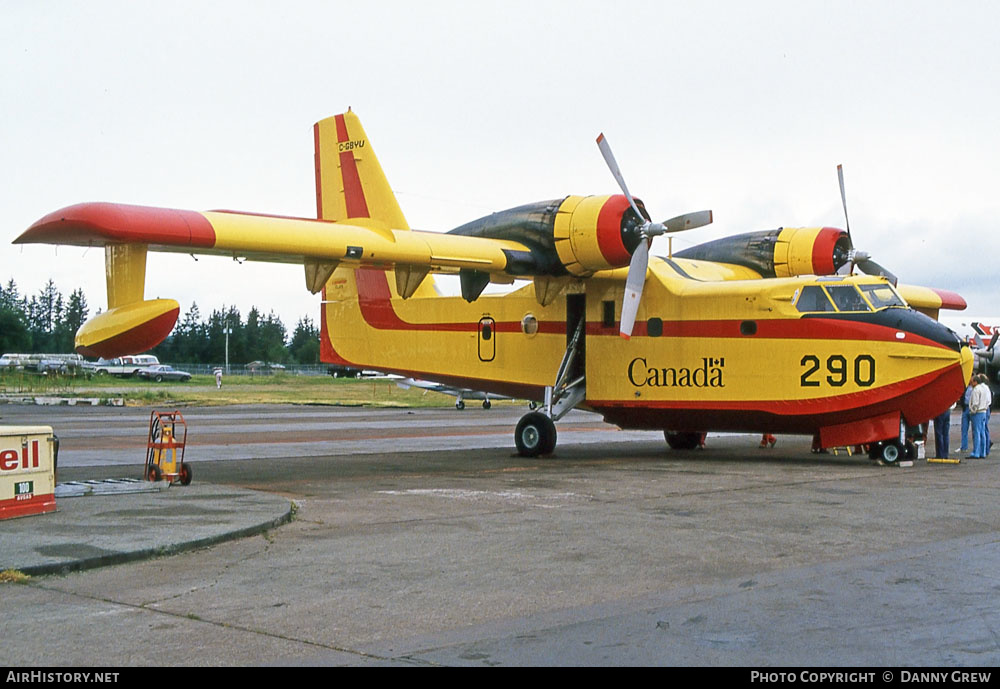Aeronef_de_service: (12, 92, 982, 482)
